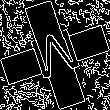M_S: (25, 24, 85, 86)
